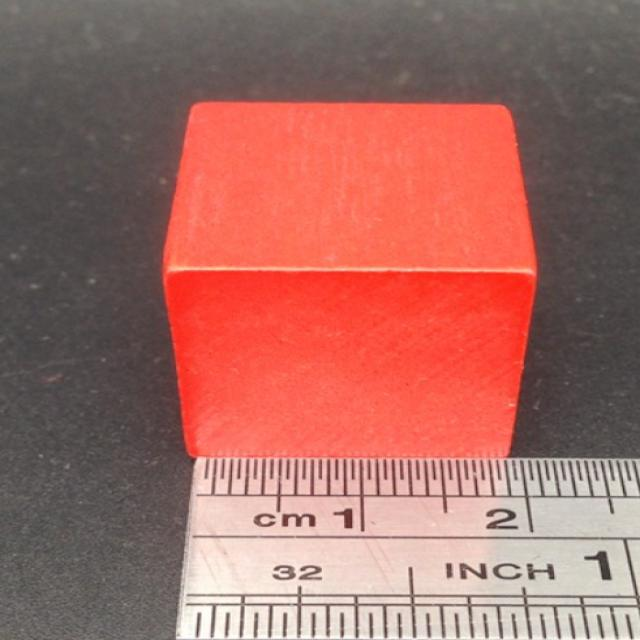red cube: (160, 100, 541, 458)
